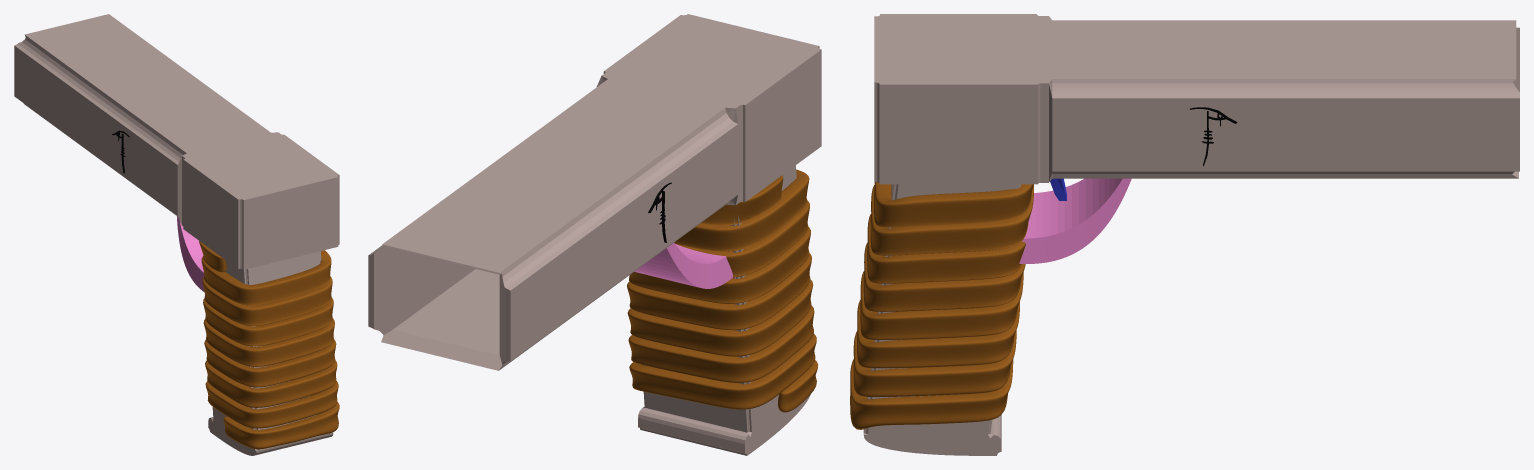
Rendered from main_character.glb.
The picture shows the model from 3 angles, left to right: view 1: azimuth 30°, elevation 25°; view 2: azimuth 150°, elevation 25°; view 3: azimuth 270°, elevation 25°; orthographic projection. The views are drawn at different scales.
Parts seen in each view (by area): view 1: Cube, strip002, Cube.001; view 2: Cube, strip002, Cube.001; view 3: Cube, strip002, Cube.001.
Boxes of the visible parts, x1=… form: Cube: x1=14, y1=14, x2=339, y2=455; strip002: x1=199, y1=241, x2=339, y2=449; Cube.001: x1=177, y1=216, x2=204, y2=291; Cube: x1=368, y1=14, x2=821, y2=455; strip002: x1=627, y1=169, x2=817, y2=412; Cube.001: x1=634, y1=243, x2=735, y2=288; Cube: x1=863, y1=14, x2=1519, y2=455; strip002: x1=850, y1=182, x2=1033, y2=429; Cube.001: x1=1019, y1=178, x2=1131, y2=263.
Bounding box in the file's own units: 2.76 × 6.6 × 10.56.
